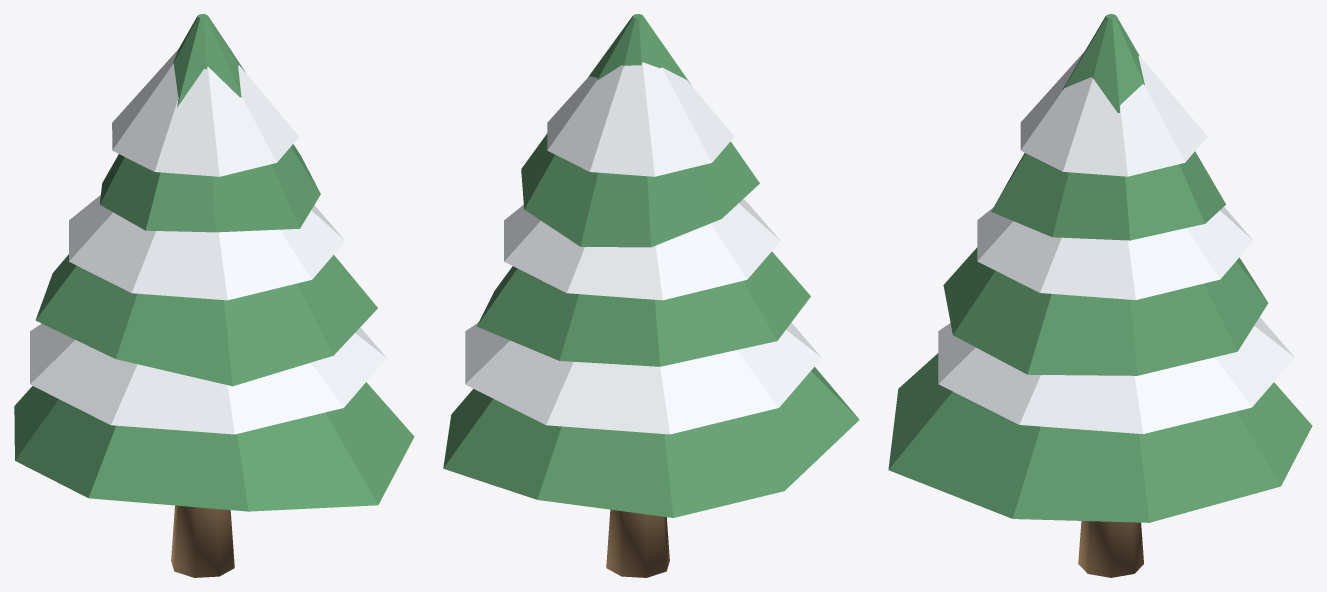
Rendered from pine_snow.glb.
3 views of the same model, side by side, from view 1: azimuth 30°, elevation 25°; view 2: azimuth 150°, elevation 25°; view 3: azimuth 270°, elevation 25° (orthographic).
Size of the model in its own units: 1.41 by 2.2 by 1.54.
